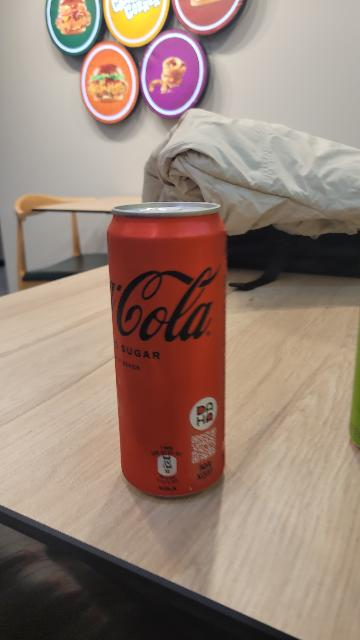Metal: (104, 202, 235, 506)
